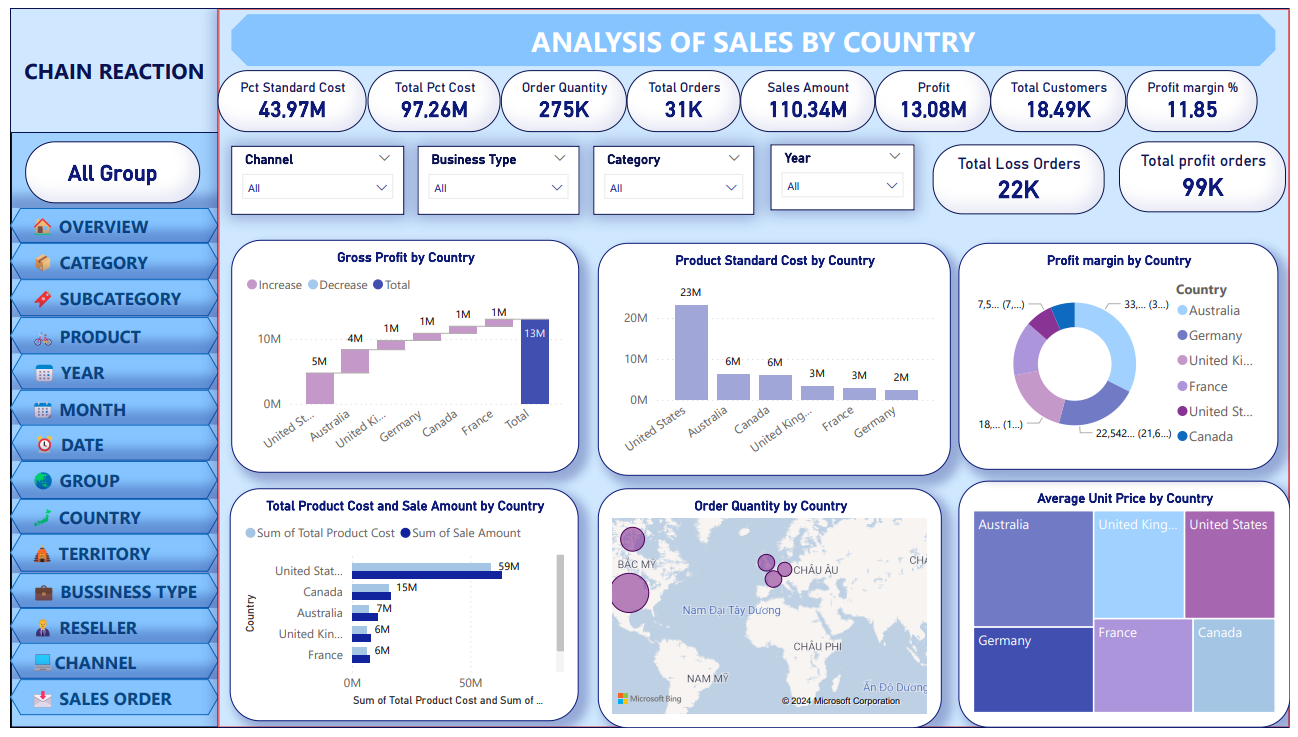

The dashboard page shown, as its layout file describes it:
{"tool":"powerbi","page":{"name":"Country","canvas":[1280,720],"ordinal":10},"visuals":[{"type":"shape","box":[0,0,209.9,720.4],"z":0},{"type":"shape","box":[0,199.4,208.6,35],"z":1000},{"type":"shape","box":[0,234.3,209,37],"z":2000},{"type":"shape","box":[0,271.3,209,37],"z":3000},{"type":"shape","box":[0,308.3,209,37],"z":4000},{"type":"shape","box":[1,345.3,208,36],"z":5000},{"type":"shape","box":[0,381.3,209,36],"z":6000},{"type":"shape","box":[1,417.3,208,36],"z":7000},{"type":"shape","box":[0,453.3,208,38],"z":8000},{"type":"shape","box":[0,491.3,209,35],"z":9000},{"type":"shape","box":[0,526.3,209,38],"z":10000},{"type":"shape","box":[0,564.3,209,35],"z":11000},{"type":"shape","box":[0,599.3,209,36],"z":12000},{"type":"shape","box":[0,635.3,209,36],"z":13000},{"type":"shape","box":[0,671.3,209,36],"z":14000},{"type":"shape","title":"dbdbdjb","box":[235.7,0,1044.3,52.1],"z":15000},{"type":"shape","box":[0.4,0,209.1,124.7],"z":16000},{"type":"shape","box":[207.6,0,1072.4,720.2],"z":17000},{"type":"card","title":"Order Quantity","fields":{"Values":["Sum(Sales.Order Quantity)"]},"box":[490.4,62.4,126,62.4],"z":18000},{"type":"card","title":"Pct Standard Cost","fields":{"Values":["Sum(Sales.Product Standard Cost)"]},"box":[207.9,62.4,149.2,62.4],"z":19000},{"type":"card","title":"Sales Amount","fields":{"Values":["Sum(Sales.Sale Amount)"]},"box":[730,62.4,134.5,62.4],"z":20000},{"type":"card","title":"Profit","fields":{"Values":["Sales.Profit"]},"box":[864.5,62.4,116.2,62.4],"z":21000},{"type":"card","title":"Total Pct Cost","fields":{"Values":["Sum(Sales.Total Product Cost)"]},"box":[357.1,62.4,133.3,62.4],"z":22000},{"type":"card","title":"Total Orders","fields":{"Values":["Sales.Total sale orders"]},"box":[616.3,62.4,113.7,62.4],"z":23000},{"type":"card","title":"Total Customers","fields":{"Values":["Count(Customer.Customer ID)"]},"box":[980.7,62.4,135.7,62.4],"z":24000},{"type":"card","title":"Profit margin %","fields":{"Values":["Sales.Profit margin"]},"box":[1116.4,62.4,130.8,62.4],"z":25000},{"type":"shape","title":"dbdbdjb","box":[221.1,5.6,1044.4,52.2],"z":26000},{"type":"waterfallChart","title":"Gross Profit by Country","fields":{"Y":["Sales.Profit"],"Category":["Country.Country"]},"box":[221,231.3,347.7,233],"z":27000},{"type":"clusteredColumnChart","title":"Product Standard Cost  by Country","fields":{"Y":["Sum(Sales.Product Standard Cost)"],"Category":["Country.Country"]},"box":[587.6,234.7,352.9,233],"z":28000},{"type":"treemap","title":" Average Unit Price by Country","fields":{"Group":["Country.Country"],"Values":["Avg(Sales.Unit Price)"]},"box":[948.2,472.7,331.8,246.9],"z":29000},{"type":"clusteredBarChart","title":"Total Product Cost and Sale Amount by Country","fields":{"Category":["Country.Country"],"Y":["Sum(Sales.Total Product Cost)","Sum(Sales.Sale Amount)"]},"box":[219.3,479.6,349.4,233],"z":30000},{"type":"map","title":"Order Quantity by Country","fields":{"Category":["Country.Country"],"Size":["Sum(Sales.Order Quantity)"]},"box":[587.6,479.6,344.3,239.8],"z":31000},{"type":"donutChart","fields":{"Category":["Country.Country"],"Y":["Sales.Profit margin"]},"box":[948.4,234.8,319.7,227.2],"z":32000},{"type":"slicer","title":"Date","fields":{"Values":["Date.Year"]},"box":[760.2,135.8,144.1,65.9],"z":33000},{"type":"slicer","title":"Category","fields":{"Values":["Category.Category"]},"box":[583.2,137.2,160.5,68.6],"z":34000},{"type":"slicer","title":"Channel","fields":{"Values":["Business Type.Business Type"]},"box":[407.5,137.2,161.9,68.6],"z":35000},{"type":"card","title":"Total profit orders","fields":{"Values":["Sales.Total_Profit_Orders"]},"box":[1108.8,133.1,167.4,71.4],"z":36000},{"type":"card","title":"Total Loss Orders","fields":{"Values":["Sales.Total_Loss_Orders"]},"box":[922.1,135.8,171.5,70],"z":37000},{"type":"slicer","fields":{"Values":["Channel.Channel"]},"box":[220.9,137.2,172.9,68.6],"z":38000},{"type":"card","fields":{"Values":["Group.SGroup"]},"box":[15.9,133.3,174.9,62.4],"z":39000}]}

Visuals, with their boxes in screenshot pixels (x1, y1, x2, y2), scaled from the page's 1280x720 canvas onto the 1298x737 screenshot:
shape: [x1=0, y1=0, x2=213, y2=736]
shape: [x1=0, y1=204, x2=212, y2=240]
shape: [x1=0, y1=240, x2=212, y2=278]
shape: [x1=0, y1=278, x2=212, y2=316]
shape: [x1=0, y1=316, x2=212, y2=353]
shape: [x1=1, y1=353, x2=212, y2=390]
shape: [x1=0, y1=390, x2=212, y2=427]
shape: [x1=1, y1=427, x2=212, y2=464]
shape: [x1=0, y1=464, x2=211, y2=503]
shape: [x1=0, y1=503, x2=212, y2=539]
shape: [x1=0, y1=539, x2=212, y2=578]
shape: [x1=0, y1=578, x2=212, y2=613]
shape: [x1=0, y1=613, x2=212, y2=650]
shape: [x1=0, y1=650, x2=212, y2=687]
shape: [x1=0, y1=687, x2=212, y2=724]
"dbdbdjb" shape: [x1=239, y1=0, x2=1297, y2=53]
shape: [x1=0, y1=0, x2=212, y2=128]
shape: [x1=211, y1=0, x2=1297, y2=736]
"Order Quantity" card: [x1=497, y1=64, x2=625, y2=128]
"Pct Standard Cost" card: [x1=211, y1=64, x2=362, y2=128]
"Sales Amount" card: [x1=740, y1=64, x2=877, y2=128]
"Profit" card: [x1=877, y1=64, x2=994, y2=128]
"Total Pct Cost" card: [x1=362, y1=64, x2=497, y2=128]
"Total Orders" card: [x1=625, y1=64, x2=740, y2=128]
"Total Customers" card: [x1=994, y1=64, x2=1132, y2=128]
"Profit margin %" card: [x1=1132, y1=64, x2=1265, y2=128]
"dbdbdjb" shape: [x1=224, y1=6, x2=1283, y2=59]
"Gross Profit by Country" waterfallChart: [x1=224, y1=237, x2=577, y2=475]
"Product Standard Cost  by Country" clusteredColumnChart: [x1=596, y1=240, x2=954, y2=479]
" Average Unit Price by Country" treemap: [x1=962, y1=484, x2=1297, y2=736]
"Total Product Cost and Sale Amount by Country" clusteredBarChart: [x1=222, y1=491, x2=577, y2=729]
"Order Quantity by Country" map: [x1=596, y1=491, x2=945, y2=736]
donutChart - Country.Country x Sales.Profit margin: [x1=962, y1=240, x2=1286, y2=473]
"Date" slicer: [x1=771, y1=139, x2=917, y2=206]
"Category" slicer: [x1=591, y1=140, x2=754, y2=211]
"Channel" slicer: [x1=413, y1=140, x2=577, y2=211]
"Total profit orders" card: [x1=1124, y1=136, x2=1294, y2=209]
"Total Loss Orders" card: [x1=935, y1=139, x2=1109, y2=211]
slicer - Channel.Channel: [x1=224, y1=140, x2=399, y2=211]
card - Group.SGroup: [x1=16, y1=136, x2=193, y2=200]
